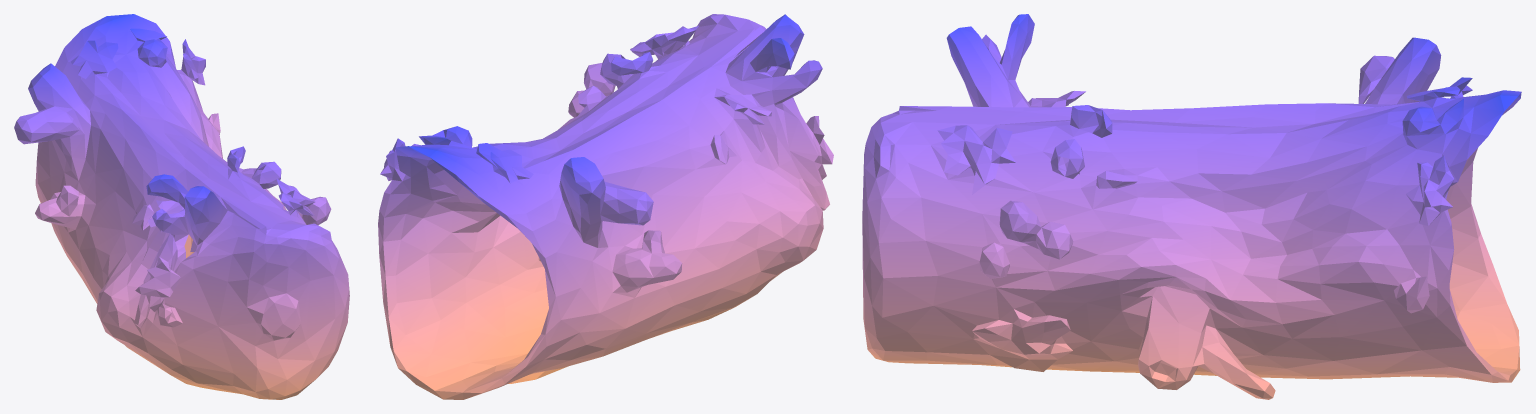
Rendered from 102_cyb_laser_gradient_fish_scales_2984_2026_10_03_6ce69f.glb.
3 views of the same model, side by side, from view 1: azimuth 30°, elevation 25°; view 2: azimuth 150°, elevation 25°; view 3: azimuth 270°, elevation 25° (orthographic). The views are drawn at different scales.
Parts seen in each view (by area): view 1: geometry_0; view 2: geometry_0; view 3: geometry_0.
Part boxes in pixels (x1=…): geometry_0: x1=14, y1=14, x2=349, y2=399; geometry_0: x1=378, y1=14, x2=833, y2=399; geometry_0: x1=862, y1=14, x2=1521, y2=399.
Size of the model in its own units: 0.5953 by 0.5255 by 1.
